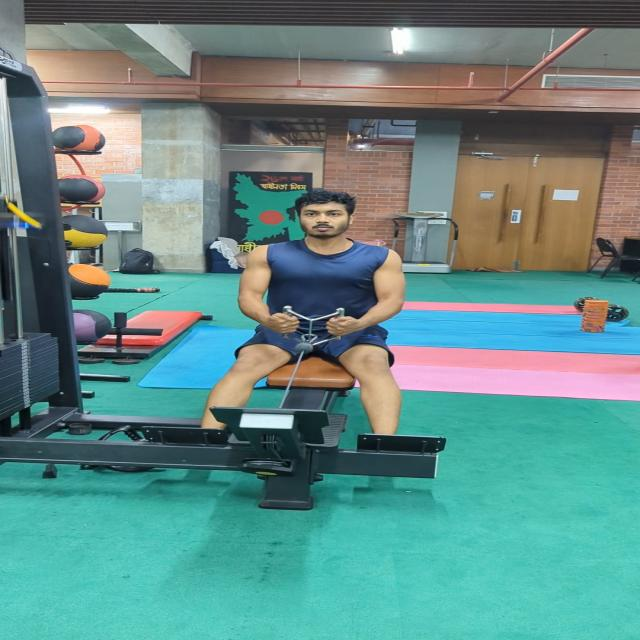Normal_RowingMachineExercise: (197, 191, 412, 445)
